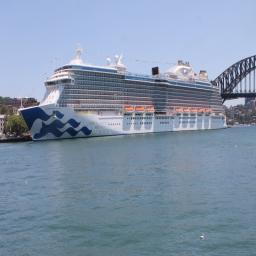cruises: (18, 42, 231, 145)
